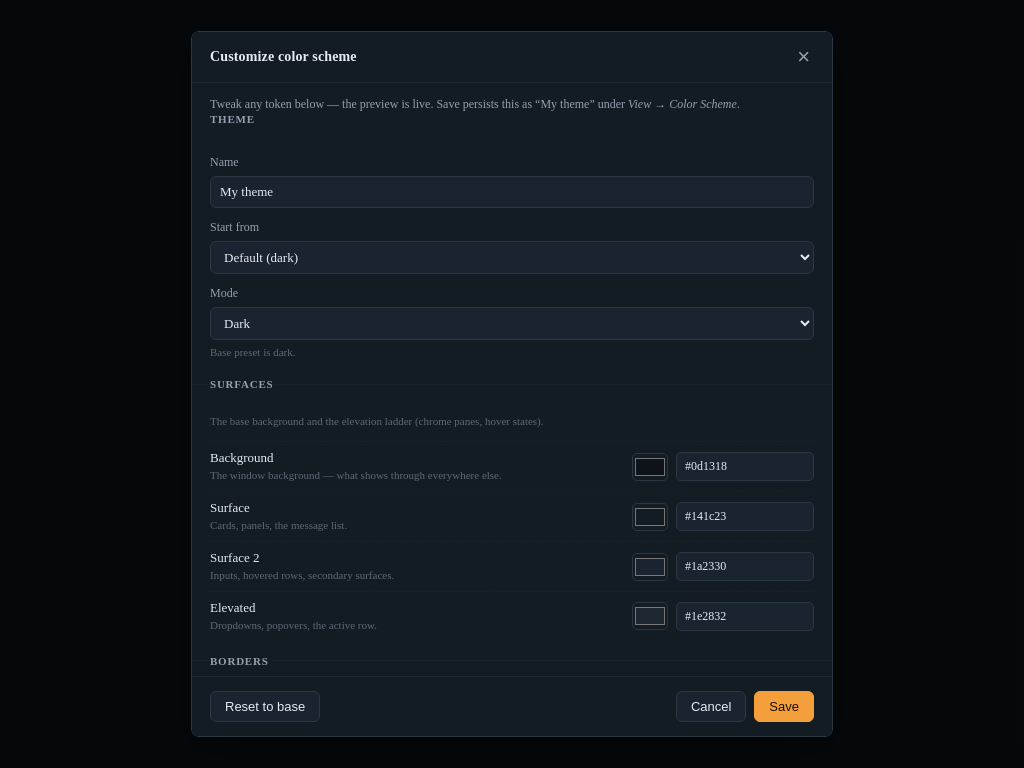
ThemeDesigner — Reset to base › Reset re-seeds the working draft from the selected base
This screenshot has width=1024, height=768.
Select "Daylight (light)" in the dropdown with test id "theme-designer-base" at (512, 258), box x1=210 y1=241 x2=814 y2=274
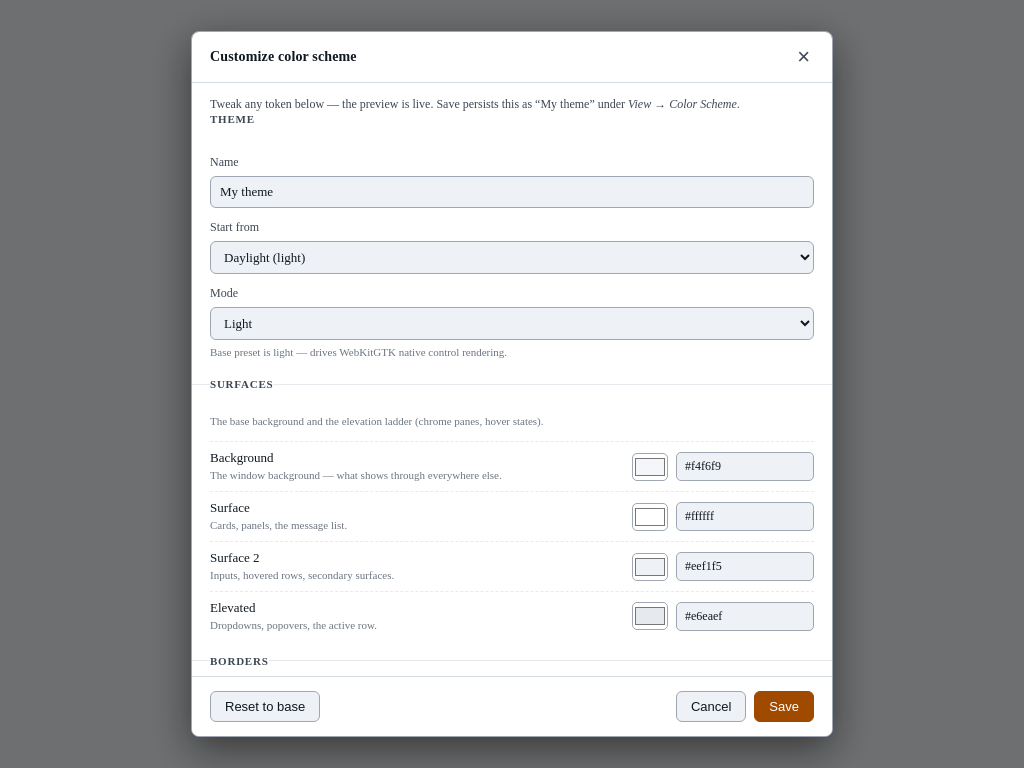
# Tweak a token, then reset.
Replace the text in the field with test id "theme-designer-text-bg" with "#abcdef" at (745, 467), box x1=676 y1=452 x2=814 y2=481
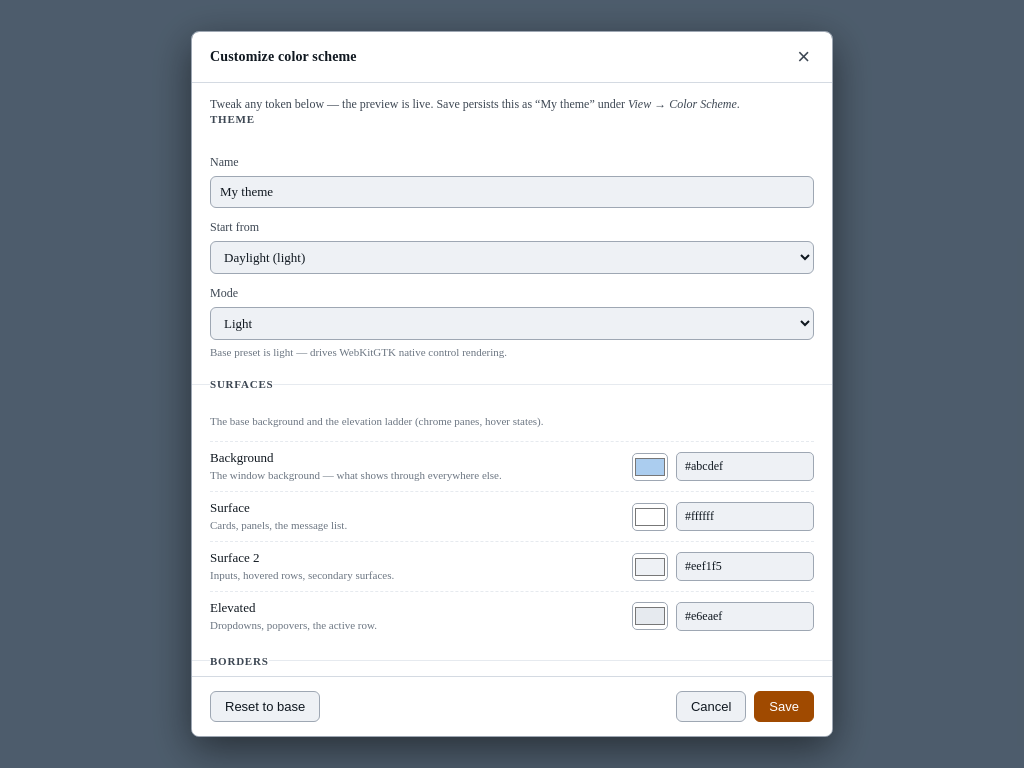
Click the button with test id "theme-designer-reset" at (265, 706), box x1=210 y1=691 x2=320 y2=722
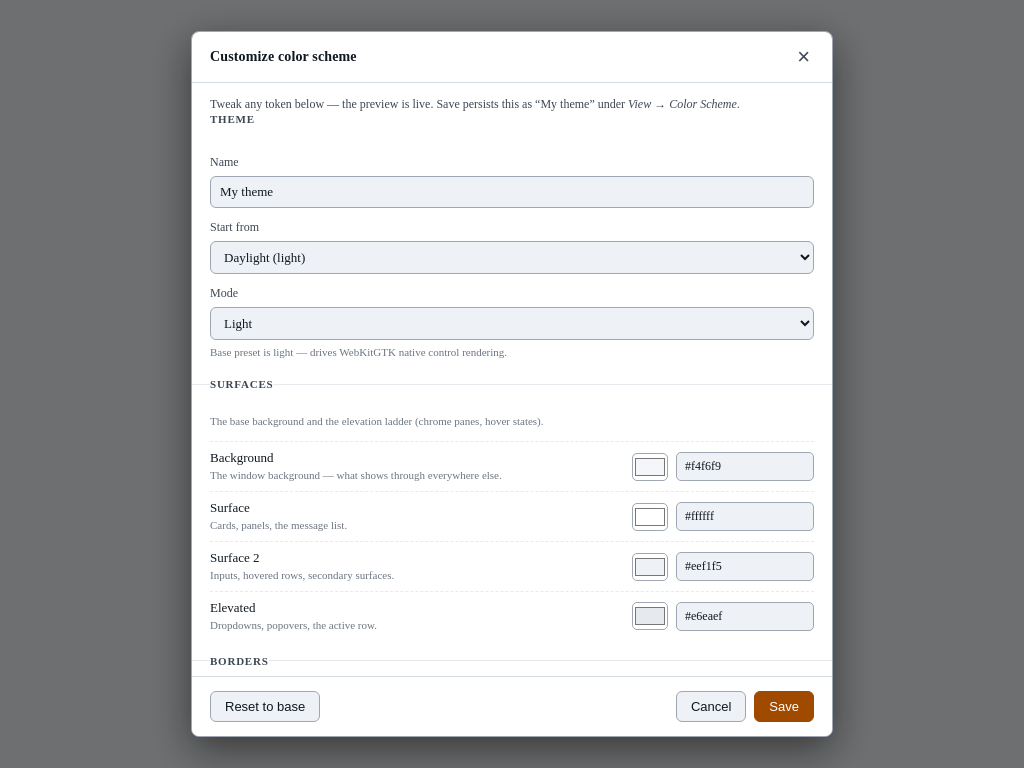
Expected: the field with test id "theme-designer-text-bg" holds "#f4f6f9", x1=676 y1=452 x2=814 y2=481
